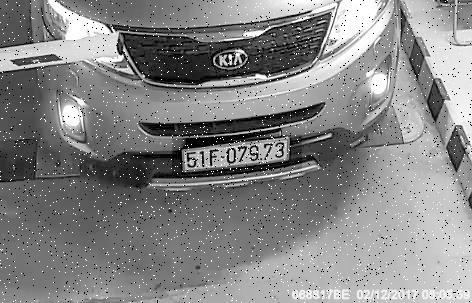License-plate: (173, 136, 303, 175)
